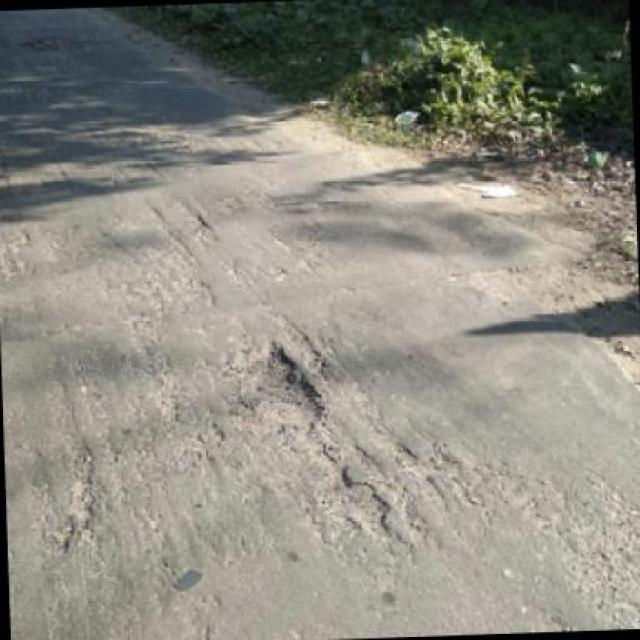pothole1: (242, 338, 330, 432), (319, 468, 396, 537)
